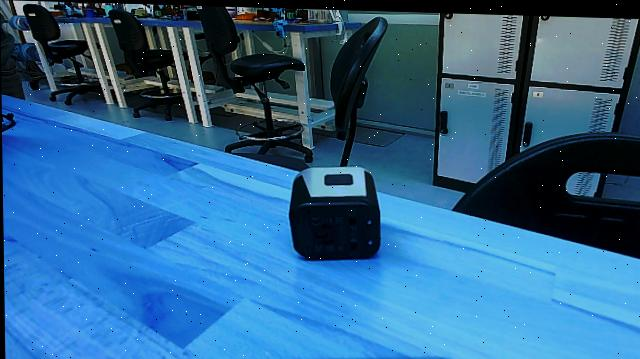adapter: (283, 156, 384, 265)
